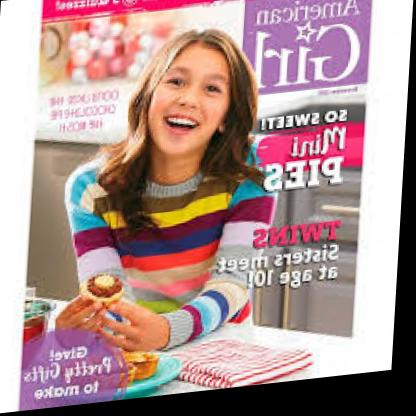Paper: (0, 0, 373, 414)
